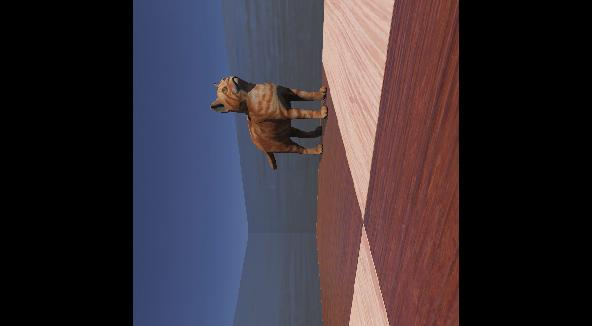Cat: (199, 51, 335, 184)
